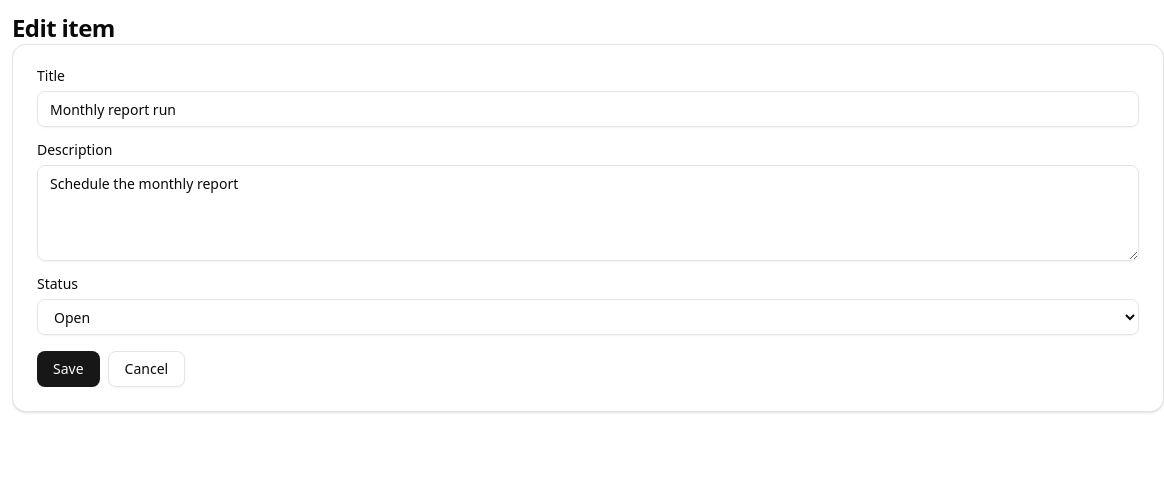
Scenario: ModuleForm (items) › edit without changes does not call the API
This screenshot has width=1164, height=484.
Click the button "Save".
click(68, 369)  # box [37,351,100,387]
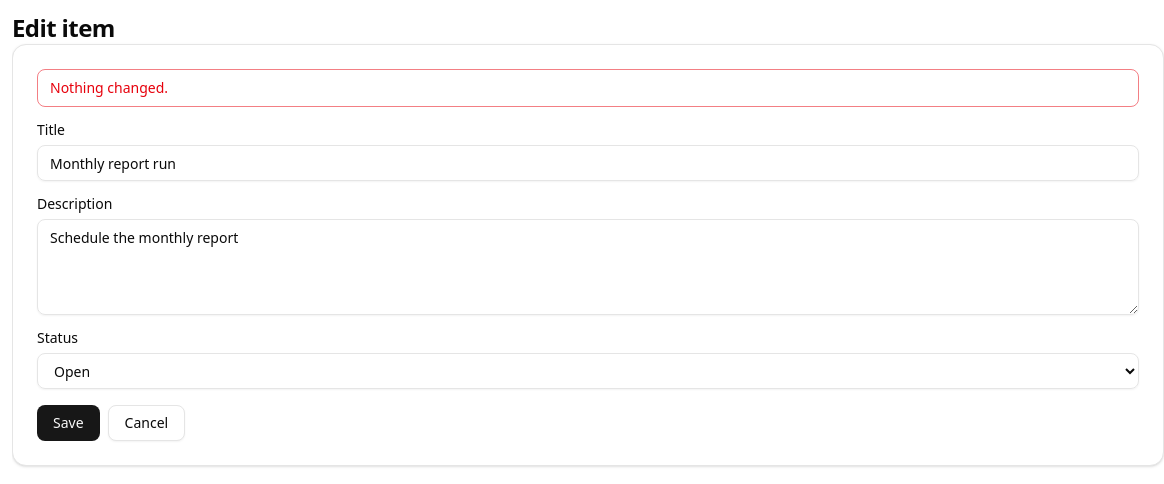
Check: the text "Nothing changed." is shown, box [37,69,1139,107]
